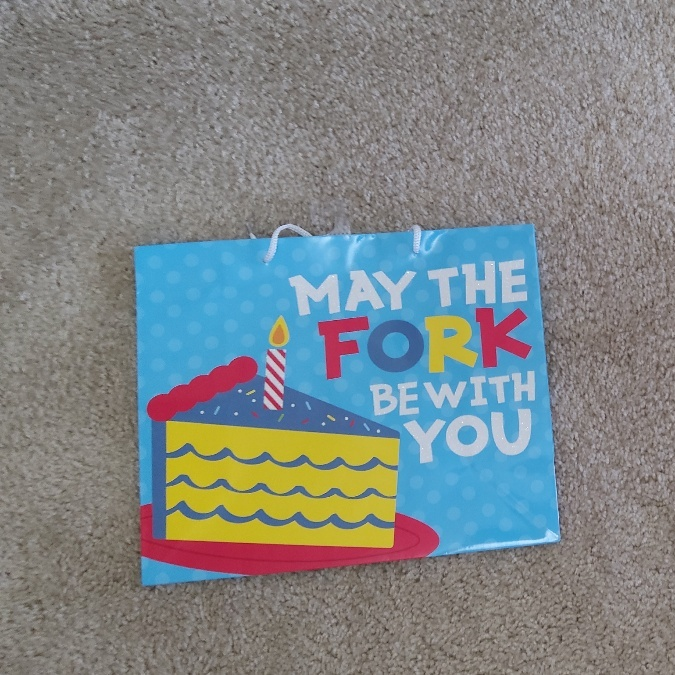paper_bag: (141, 247, 539, 561)
